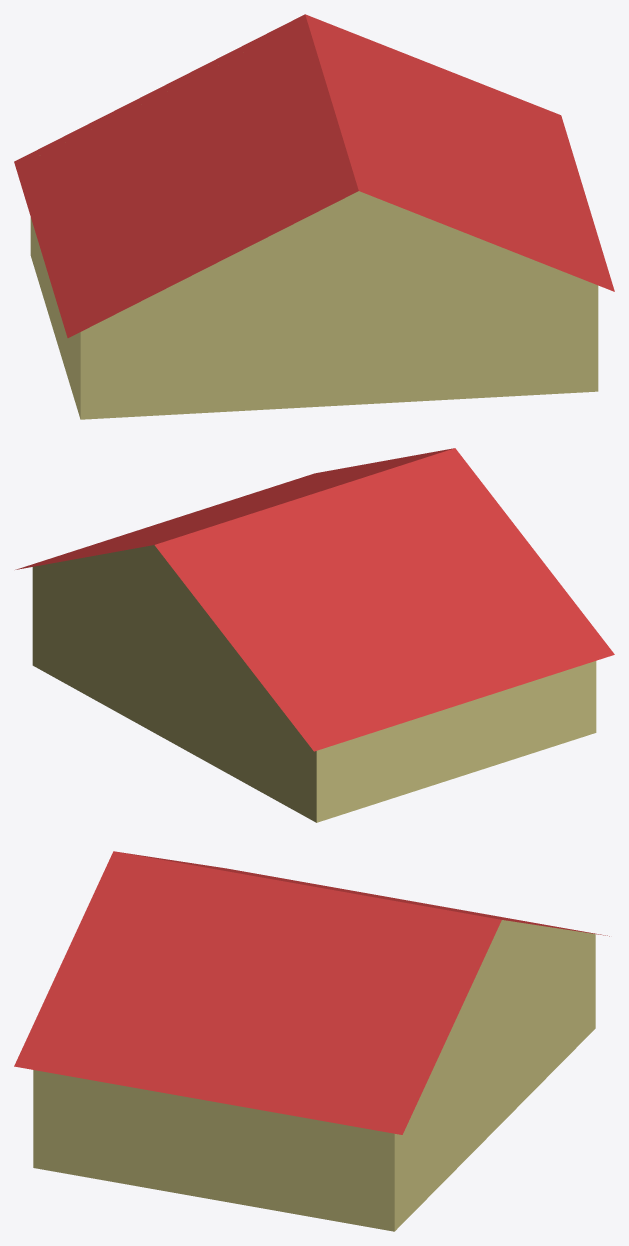
3 renders of one model, top to bottom at view 1: azimuth 30°, elevation 25°; view 2: azimuth 150°, elevation 25°; view 3: azimuth 270°, elevation 25°, orthographic. The views are drawn at different scales.
Size of the model in its own units: 45.26 by 40.55 by 16.35.
